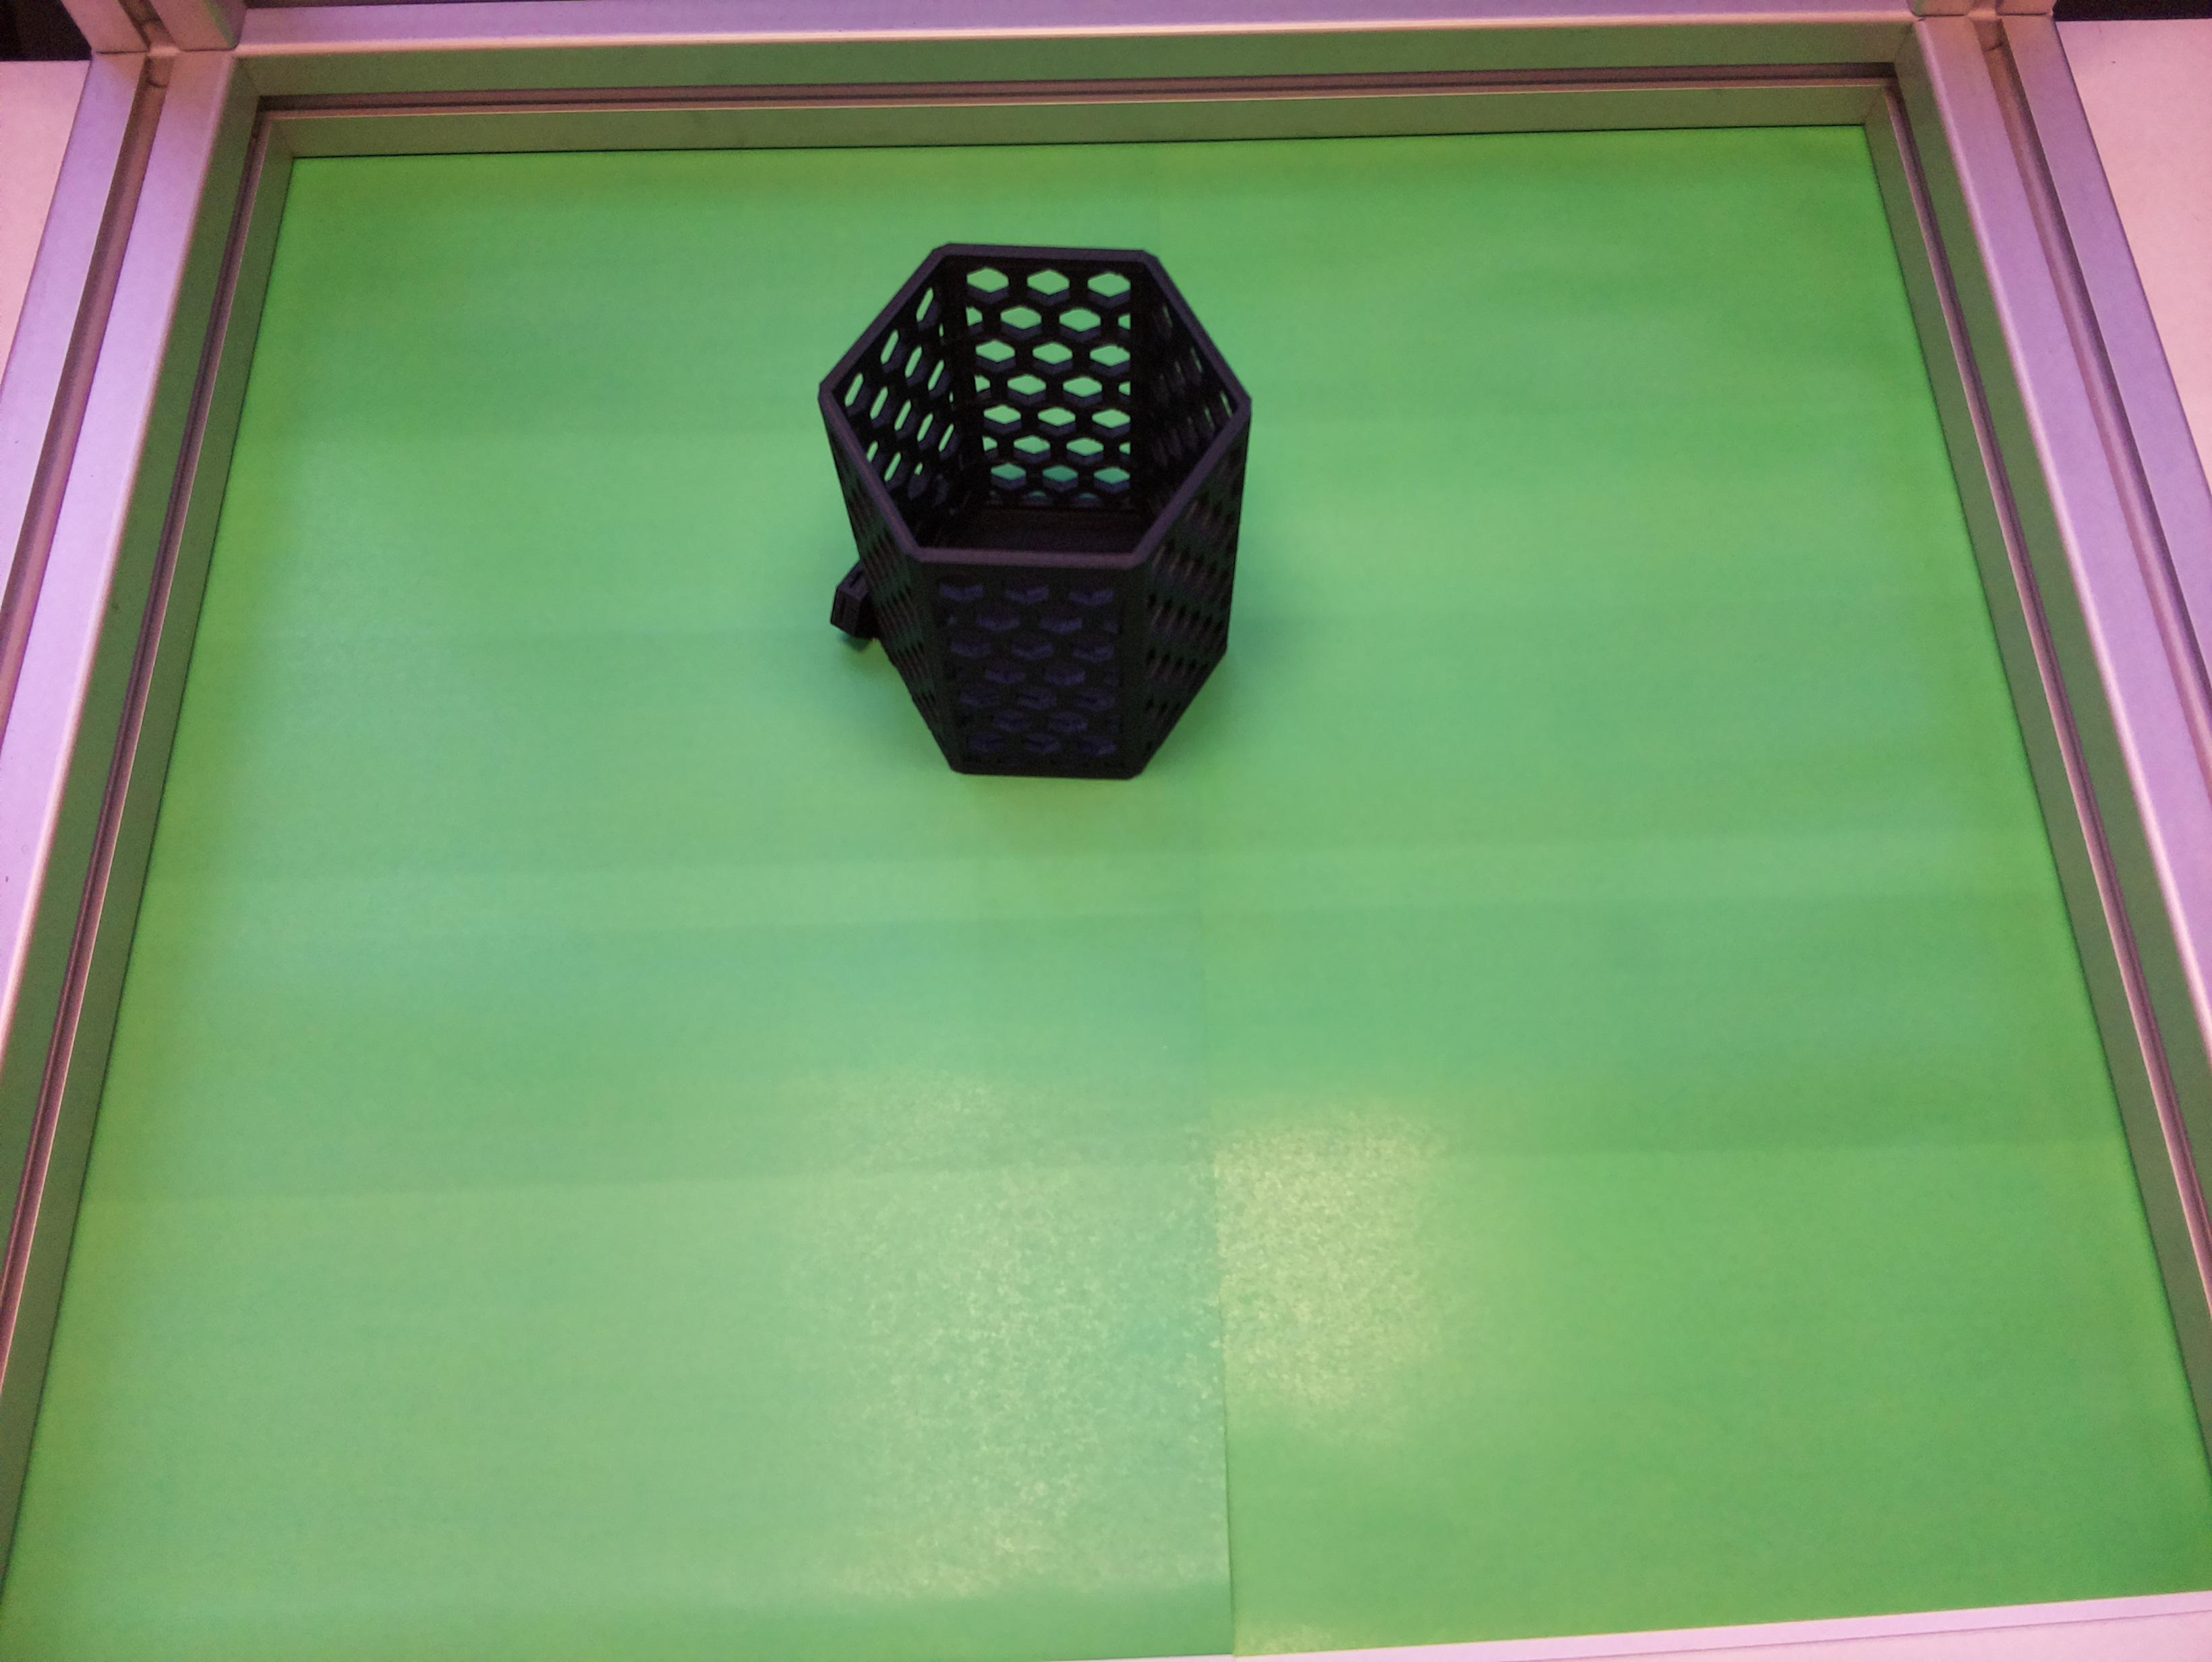cup_holder: (808, 240, 1256, 784)
